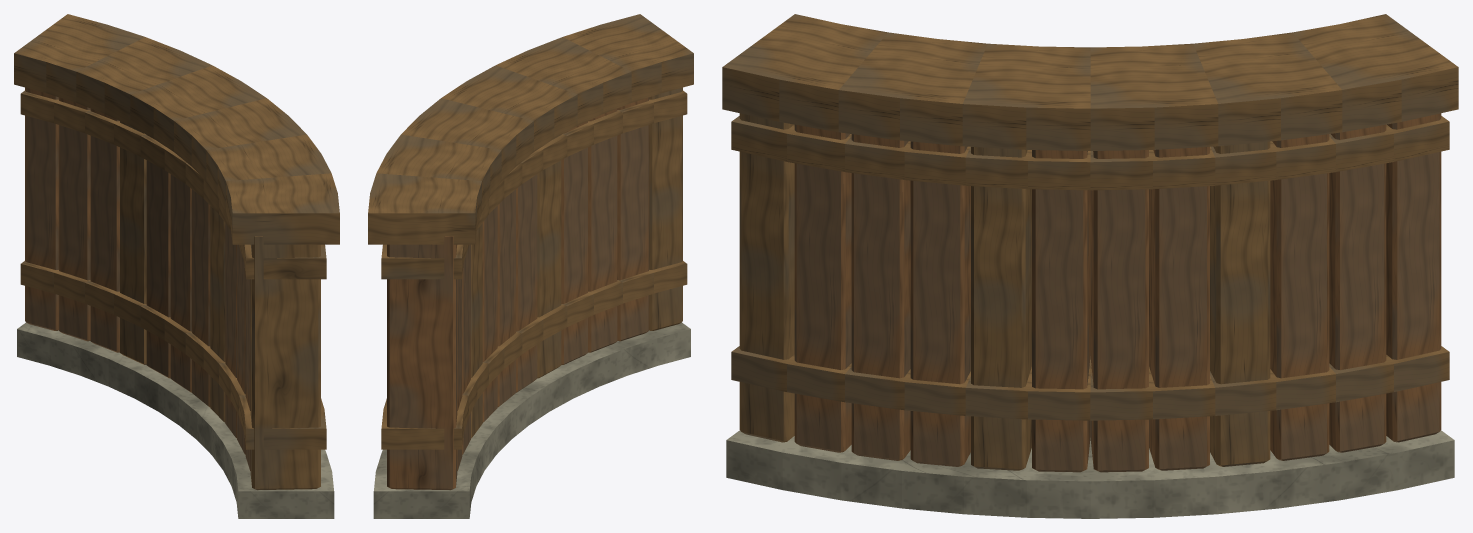
The model's file is b06_arc_60.fbx.
3 renders of one model, left to right at view 1: azimuth 30°, elevation 25°; view 2: azimuth 150°, elevation 25°; view 3: azimuth 270°, elevation 25°, orthographic. The views are drawn at different scales.
Parts seen in each view (by area): view 1: b06_arc_60; view 2: b06_arc_60; view 3: b06_arc_60.
Part boxes in pixels (box(x1,y1,x2,y2)): b06_arc_60: box(14, 14, 339, 518); b06_arc_60: box(368, 14, 693, 518); b06_arc_60: box(722, 14, 1458, 518).
Size of the model in its own units: 8655 by 28400 by 17600.
